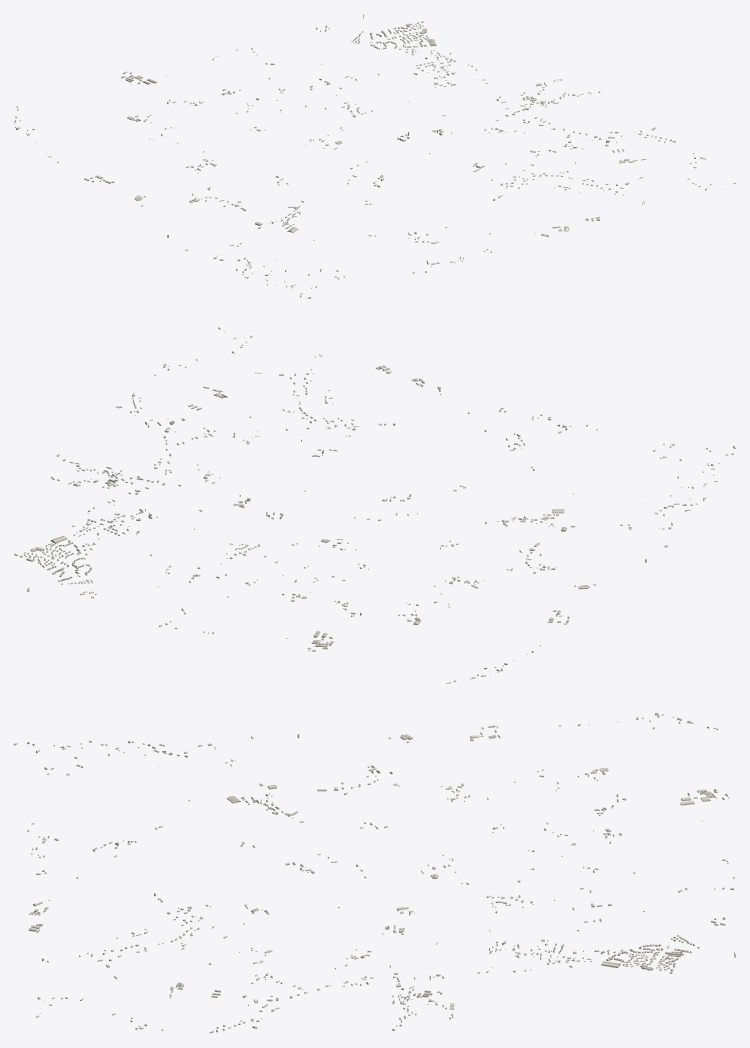
3 renders of one model, top to bottom at view 1: azimuth 30°, elevation 25°; view 2: azimuth 150°, elevation 25°; view 3: azimuth 270°, elevation 25°, orthographic. The views are drawn at different scales.
Bounding box in the file's own units: 3636 × 118 × 3556.
